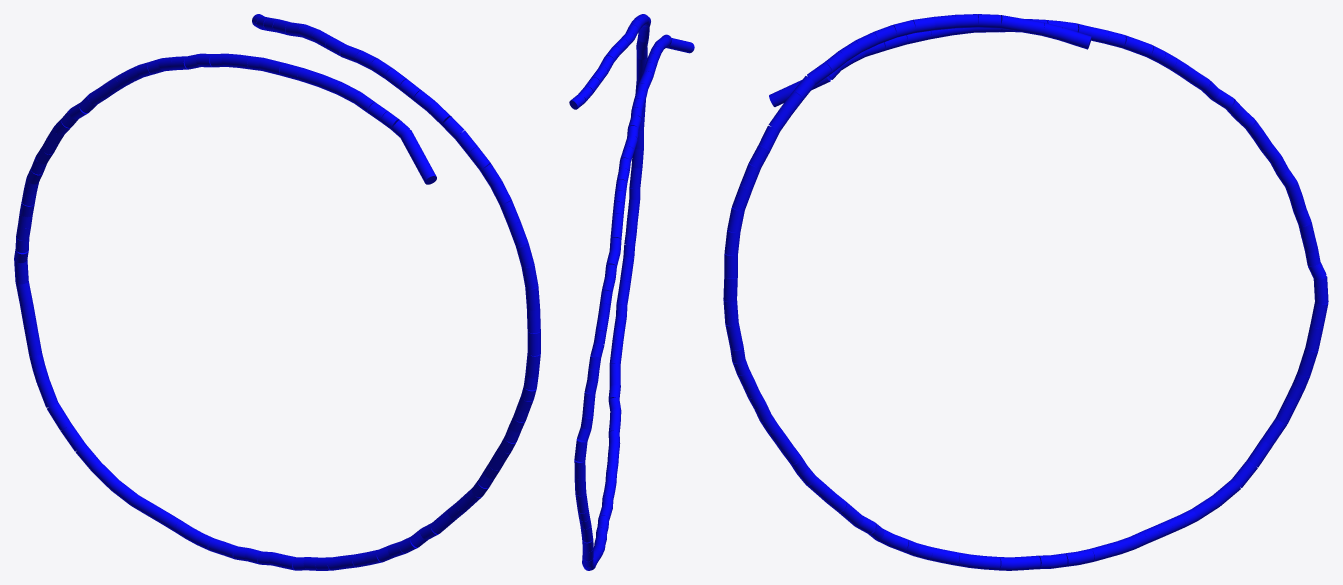
The picture shows the model from 3 angles, left to right: view 1: azimuth 30°, elevation 25°; view 2: azimuth 150°, elevation 25°; view 3: azimuth 270°, elevation 25°; orthographic projection. The views are drawn at different scales.
Visible parts, largest first — view 1: Cylinder(Clone); view 2: Cylinder(Clone) (×9); view 3: no part large enough to name.
Boxes of the visible parts, <box> form: Cylinder(Clone): <box>400,129,436,184</box>; Cylinder(Clone) (×9): <box>574,38,694,513</box>.
Size of the model in its own units: 0.2048 by 0.4585 by 0.4444.
